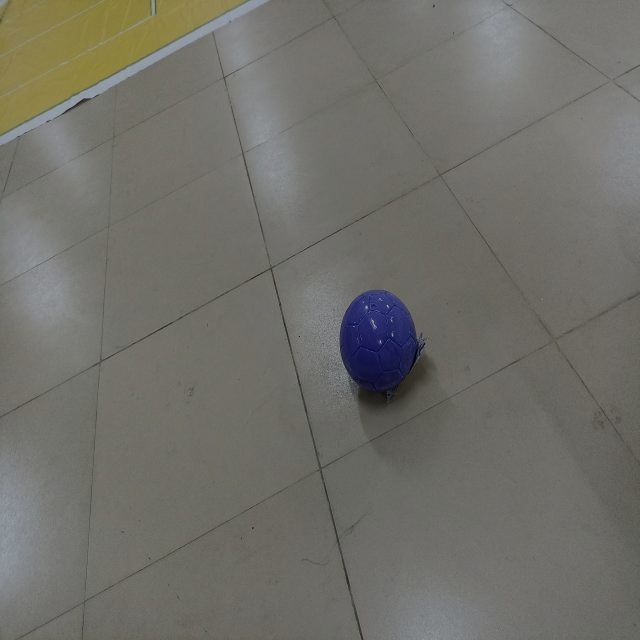purple_ball: (341, 297, 410, 384)
